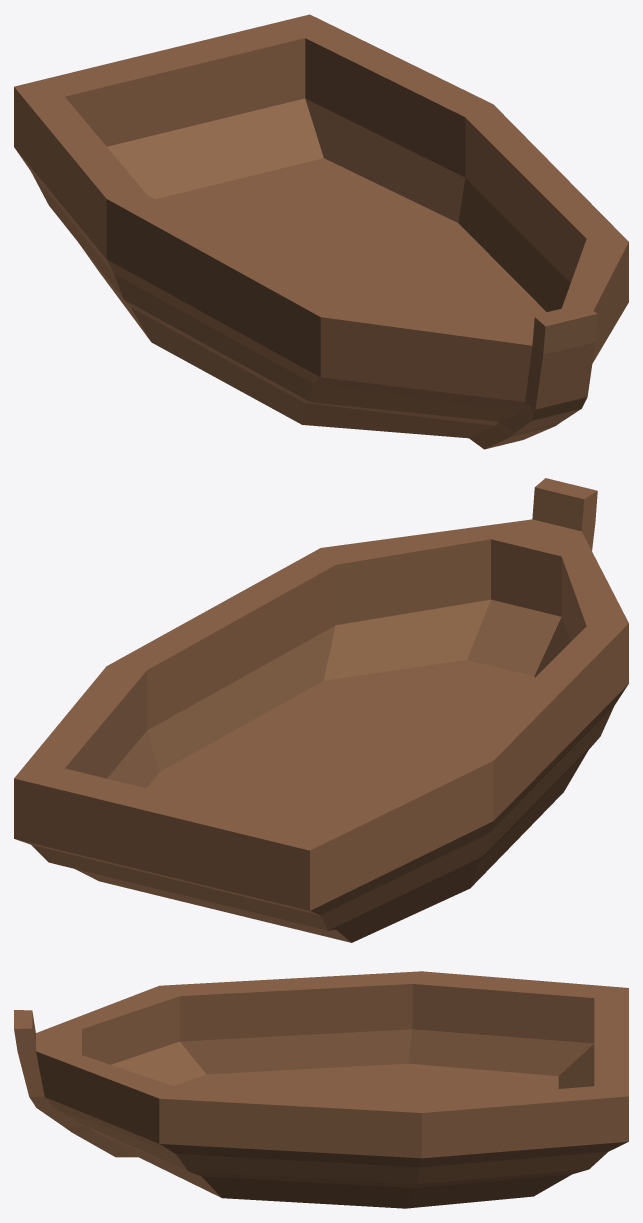
The model's file is Boat.glb.
3 views of the same model, one above another, from view 1: azimuth 30°, elevation 25°; view 2: azimuth 150°, elevation 25°; view 3: azimuth 270°, elevation 25° (orthographic). The views are drawn at different scales.
Parts seen in each view (by area): view 1: Boat; view 2: Boat; view 3: Boat.
Part boxes in pixels (bbox=[...]): Boat: bbox=[14, 14, 628, 449]; Boat: bbox=[14, 478, 628, 942]; Boat: bbox=[14, 971, 628, 1208].
Bounding box in the file's own units: 0.3645 × 0.1569 × 0.6684.
